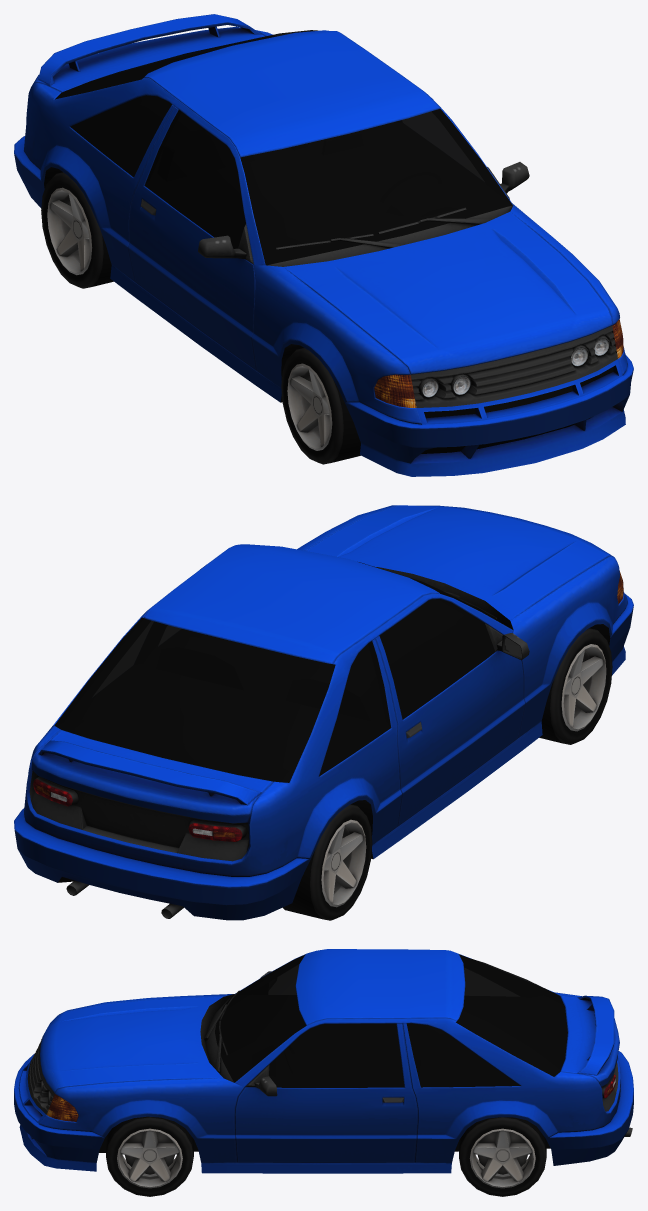
Rendered from coupe.glb.
3 views of the same model, one above another, from view 1: azimuth 30°, elevation 25°; view 2: azimuth 150°, elevation 25°; view 3: azimuth 270°, elevation 25° (orthographic). The views are drawn at different scales.
Visible parts, largest first — view 1: Body, Glass, Tire (×2), Optics; view 2: Body, Glass, Tire (×2), Optics; view 3: Body, Glass, Tire (×2), Optics.
Part boxes in pixels (bbox=[...]): Body: bbox=[14, 14, 633, 476]; Glass: bbox=[55, 30, 512, 265]; Tire (×2): bbox=[41, 172, 360, 464]; Optics: bbox=[374, 319, 623, 407]; Body: bbox=[14, 505, 633, 920]; Glass: bbox=[54, 562, 507, 782]; Tire (×2): bbox=[282, 628, 612, 920]; Optics: bbox=[33, 571, 623, 841]; Body: bbox=[14, 949, 633, 1173]; Glass: bbox=[215, 954, 567, 1087]; Tire (×2): bbox=[106, 1116, 546, 1196]; Optics: bbox=[46, 1074, 615, 1121].
Bounding box in the file's own units: 1.88 × 1.28 × 4.24.
Materials: 4 (3 with a texture image).
